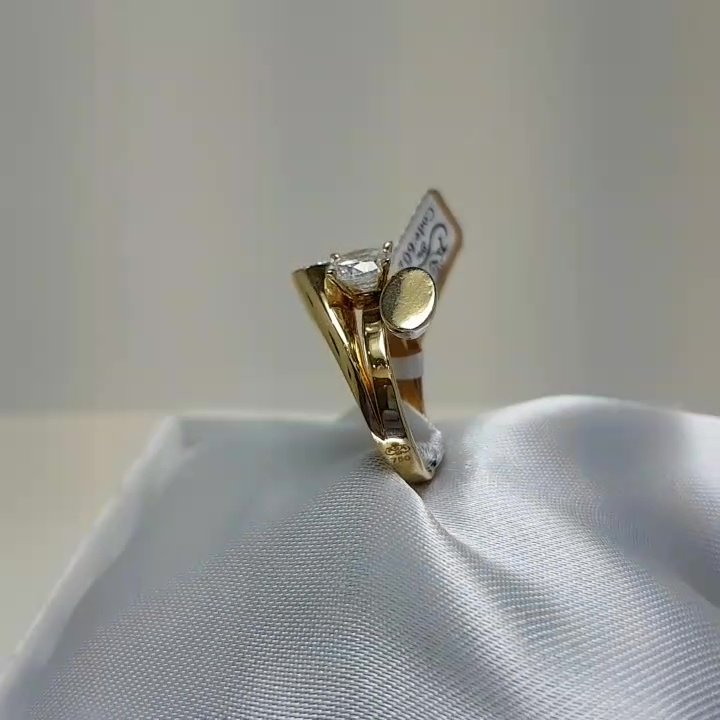Ring 7: (287, 238, 470, 496)
